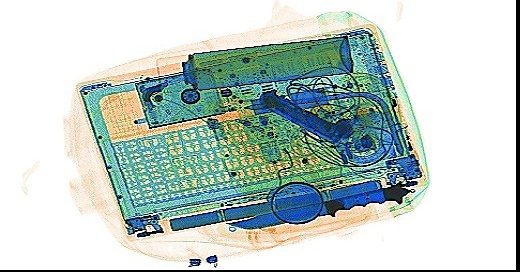knife: (221, 179, 416, 230), (253, 86, 346, 144)
pressure: (151, 33, 356, 93)
